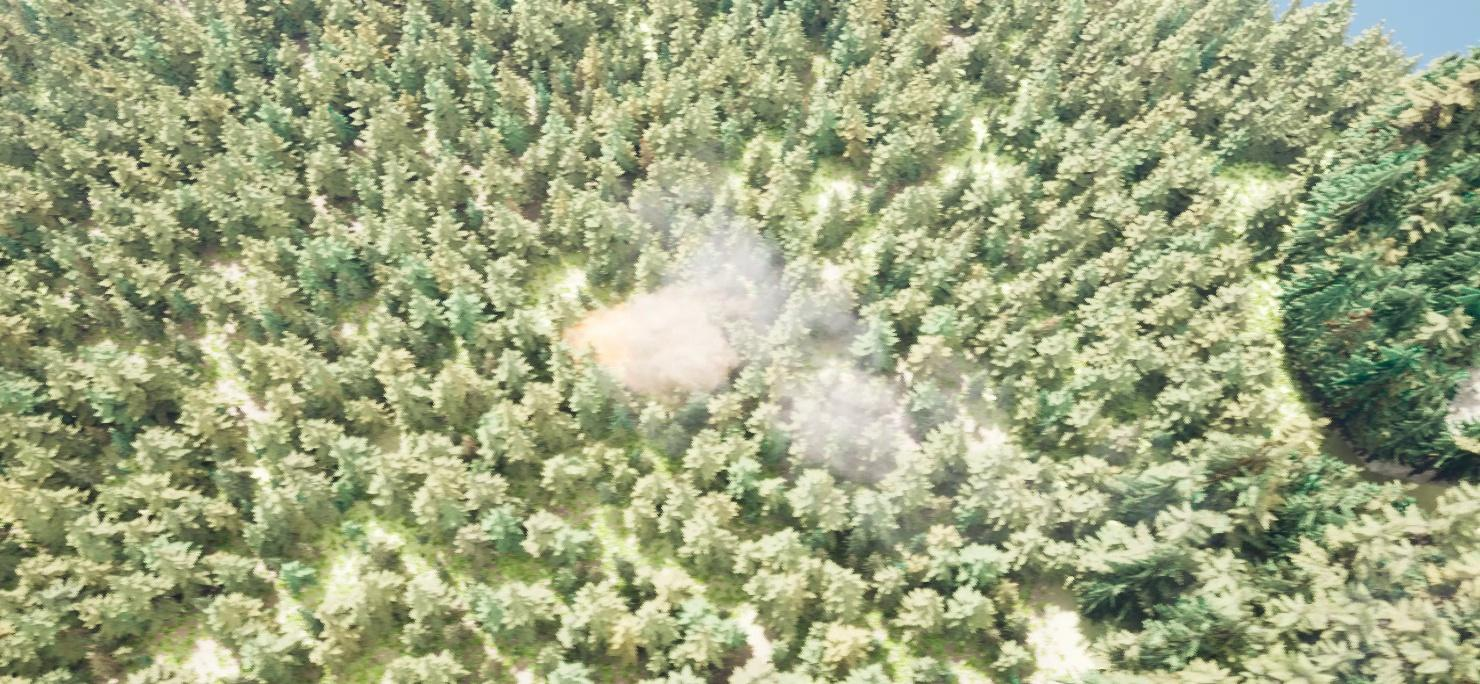smoke: (552, 168, 980, 493)
